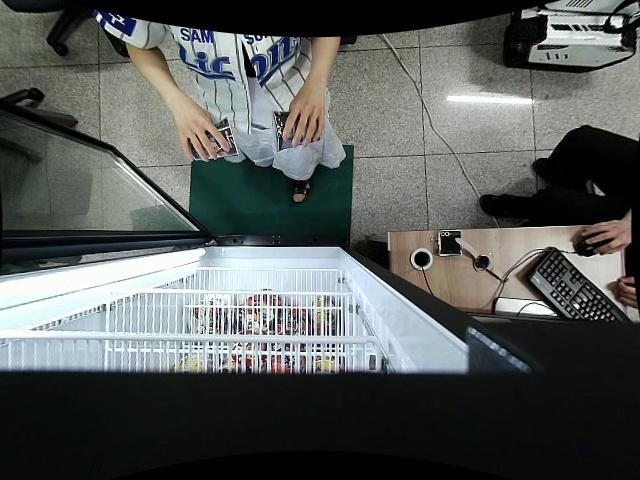00_hand: (173, 96, 230, 164), (280, 91, 329, 147)
08_buldak_S: (189, 115, 239, 162), (272, 108, 322, 150)
